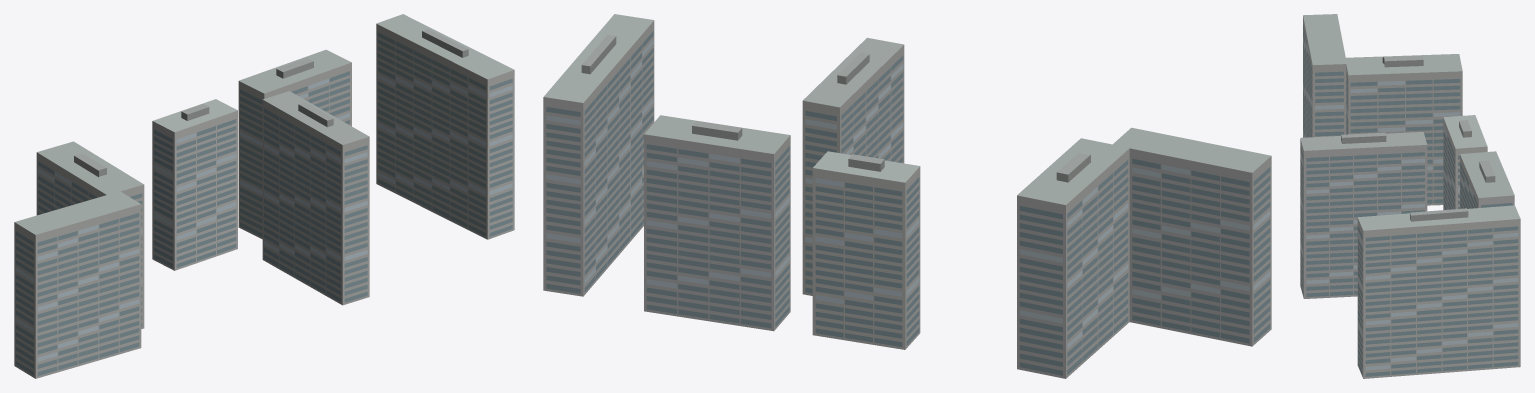
Rendered from apt-a15601102.glb.
The picture shows the model from 3 angles, left to right: view 1: azimuth 30°, elevation 25°; view 2: azimuth 150°, elevation 25°; view 3: azimuth 270°, elevation 25°; orthographic projection. The views are drawn at different scales.
Visible parts, largest first — view 1: apt-a15601102; view 2: apt-a15601102; view 3: apt-a15601102.
Part boxes in pixels (left/top/right/bottom): apt-a15601102: left=14, top=14, right=514, bottom=378; apt-a15601102: left=543, top=14, right=1271, bottom=378; apt-a15601102: left=1300, top=14, right=1520, bottom=378.
Size of the model in its own units: 197 by 61 by 78.95.
